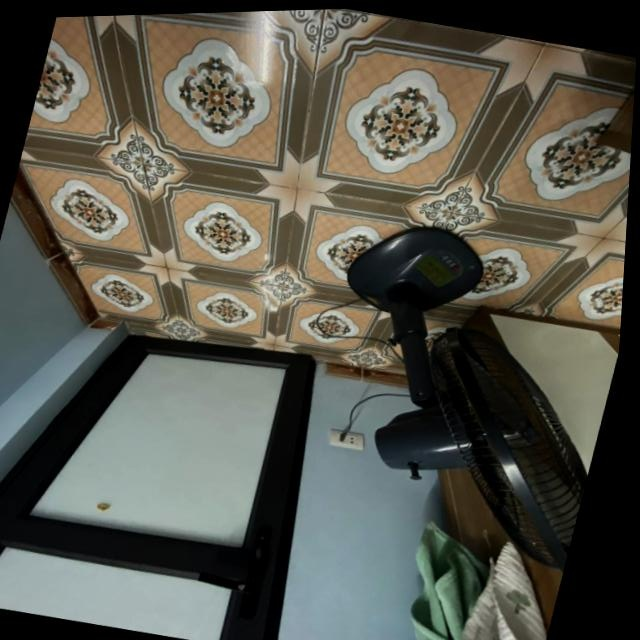outlet: (327, 427, 368, 451)
